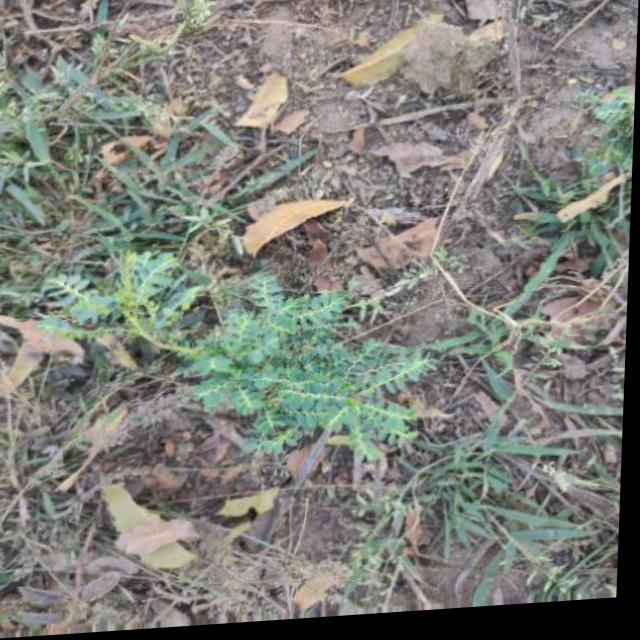weed: (14, 223, 434, 497), (1, 0, 240, 229)
